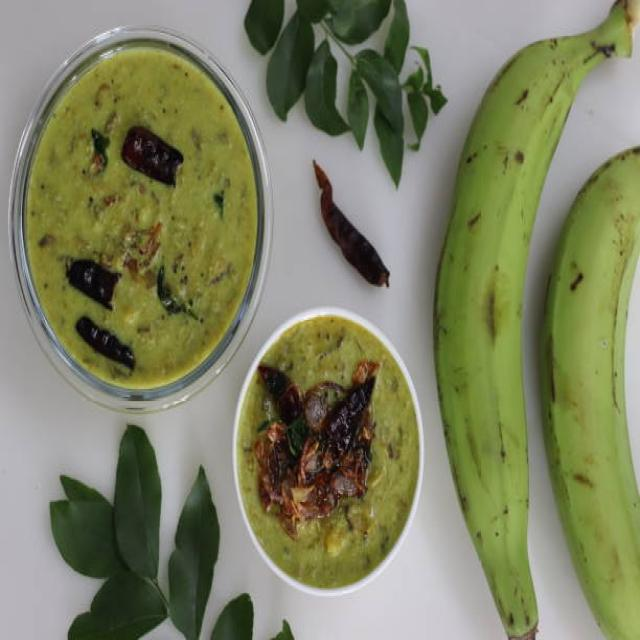BANANA: (419, 1, 639, 638)
VEGGIES: (16, 33, 261, 417), (241, 318, 438, 593)
